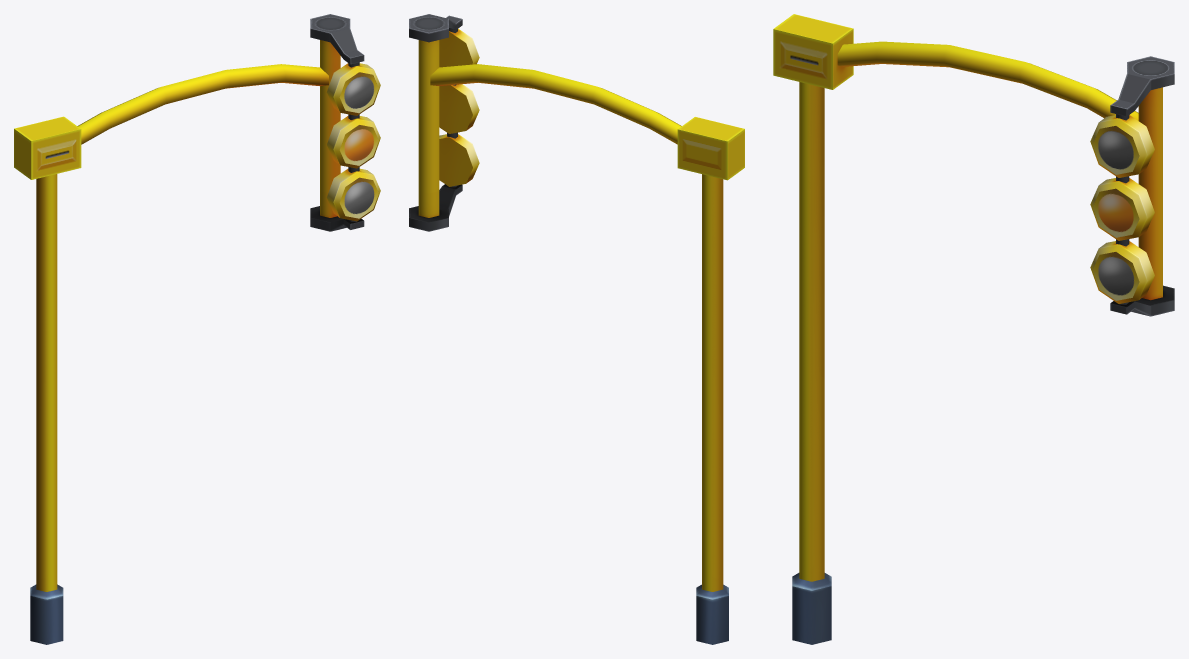
Rendered from Traffic_Light_Tunnel.fbx.
3 renders of one model, left to right at view 1: azimuth 30°, elevation 25°; view 2: azimuth 150°, elevation 25°; view 3: azimuth 330°, elevation 25°, orthographic. The views are drawn at different scales.
Parts seen in each view (by area): view 1: Traffic_Light_Tunnel, Light_Traffic_Tunnel_Color; view 2: Traffic_Light_Tunnel; view 3: Traffic_Light_Tunnel, Light_Traffic_Tunnel_Color.
Boxes of the visible parts, box(x1,y1,x2,y2) form: Traffic_Light_Tunnel: box(14, 14, 380, 644); Light_Traffic_Tunnel_Color: box(339, 72, 378, 218); Traffic_Light_Tunnel: box(409, 14, 744, 644); Traffic_Light_Tunnel: box(773, 14, 1174, 644); Light_Traffic_Tunnel_Color: box(1092, 126, 1139, 300).
Bounding box in the file's own units: 73.13 × 115 × 14.91.
